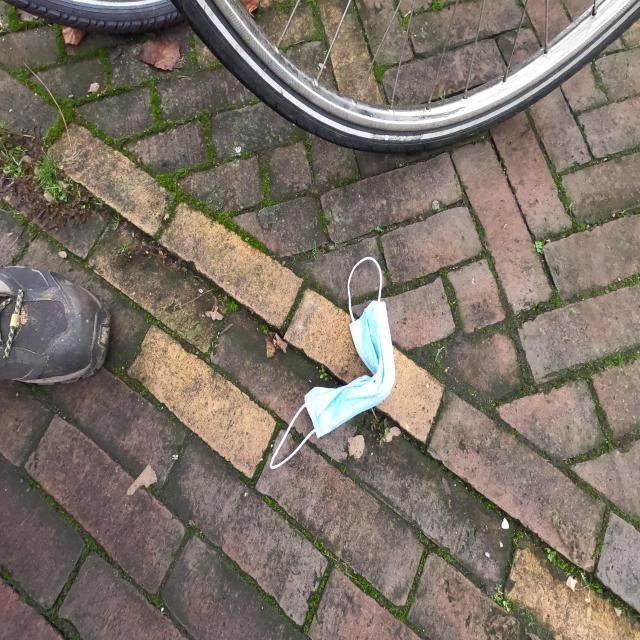Mask: (260, 252, 400, 475)
